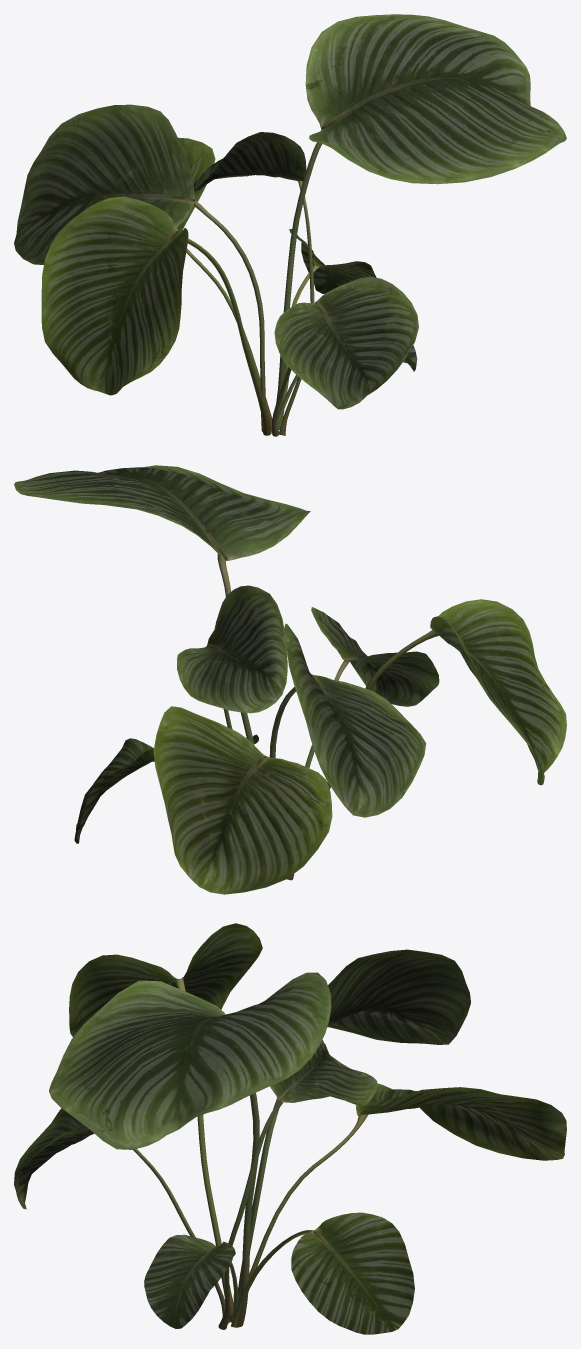
File: plant-calathea.glb
3 renders of one model, top to bottom at view 1: azimuth 30°, elevation 25°; view 2: azimuth 150°, elevation 25°; view 3: azimuth 270°, elevation 25°, orthographic. The views are drawn at different scales.
Visible parts, largest first — view 1: calathea_orbifolia_01_a; view 2: calathea_orbifolia_01_a; view 3: calathea_orbifolia_01_a.
Boxes of the visible parts, bbox=[...] form: calathea_orbifolia_01_a: bbox=[14, 14, 566, 436]; calathea_orbifolia_01_a: bbox=[14, 465, 566, 894]; calathea_orbifolia_01_a: bbox=[14, 923, 566, 1334].
Bounding box in the file's own units: 0.6006 × 0.4243 × 0.5257.
1 material, 1 textured.
